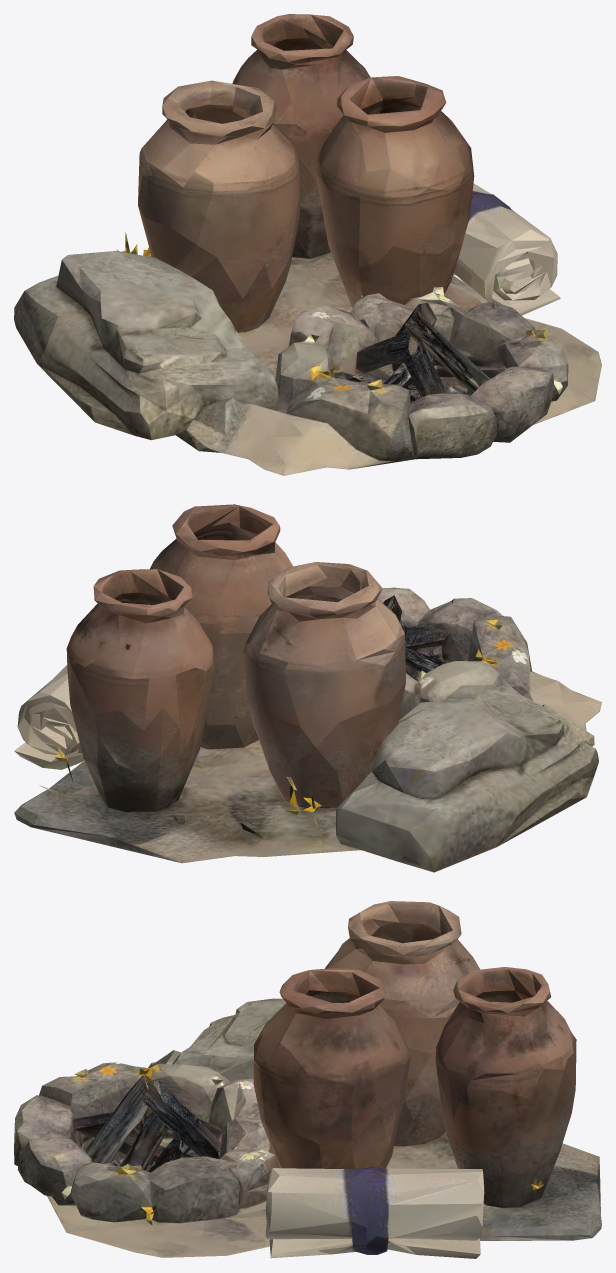
Rendered from jars.glb.
3 renders of one model, top to bottom at view 1: azimuth 30°, elevation 25°; view 2: azimuth 150°, elevation 25°; view 3: azimuth 270°, elevation 25°, orthographic. The views are drawn at different scales.
Bounding box in the file's own units: 1.71 × 0.7679 × 1.89.
Materials: 1 (1 with a texture image).
